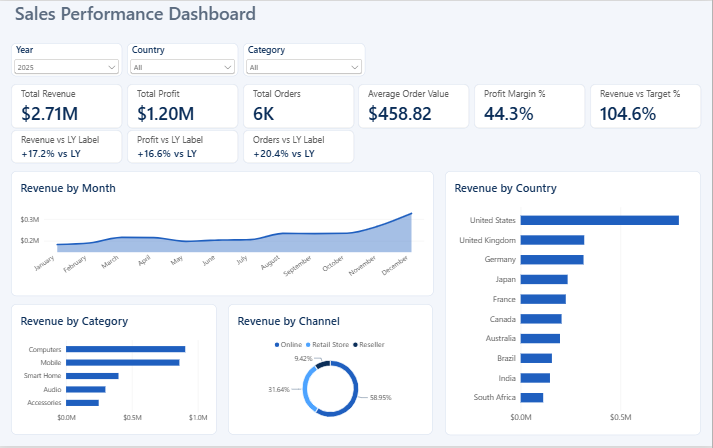

This screenshot's page, from the dashboard's own definition file:
{"tool":"powerbi","page":{"name":"Sales","canvas":[1280,800],"ordinal":0},"visuals":[{"type":"slicer","fields":{"Values":["Calendar.Year"]},"box":[20,75,200,60],"z":1001},{"type":"slicer","fields":{"Values":["Territories.Country"]},"box":[228,75,200,60],"z":1002},{"type":"slicer","fields":{"Values":["Products.Category"]},"box":[436,75,220,60],"z":1003},{"type":"cardVisual","fields":{"Data":["Sales.Total Revenue"]},"box":[20,150,200,80],"z":1004},{"type":"cardVisual","fields":{"Data":["Sales.Total Profit"]},"box":[228,150,200,80],"z":1005},{"type":"cardVisual","fields":{"Data":["Sales.Total Orders"]},"box":[436,150,200,80],"z":1006},{"type":"cardVisual","fields":{"Data":["Sales.Average Order Value"]},"box":[644,150,200,80],"z":1007},{"type":"cardVisual","fields":{"Data":["Sales.Profit Margin %"]},"box":[852,150,200,80],"z":1008},{"type":"cardVisual","fields":{"Data":["Targets.Revenue vs Target %"]},"box":[1060,150,200,80],"z":1009},{"type":"cardVisual","fields":{"Data":["Calendar.Revenue vs LY Label"]},"box":[20,232,200,60],"z":1010},{"type":"cardVisual","fields":{"Data":["Calendar.Profit vs LY Label"]},"box":[228,232,200,60],"z":1011},{"type":"cardVisual","fields":{"Data":["Calendar.Orders vs LY Label"]},"box":[436,232,200,60],"z":1012},{"type":"areaChart","title":"Revenue by Month","fields":{"Category":["Calendar.MonthName"],"Y":["Sales.Total Revenue"]},"box":[20,305,760,225],"z":1013},{"type":"clusteredBarChart","title":"Revenue by Country","fields":{"Category":["Territories.Country"],"Y":["Sales.Total Revenue"]},"box":[800,305,460,475],"z":1014},{"type":"clusteredBarChart","title":"Revenue by Category","fields":{"Category":["Products.Category"],"Y":["Sales.Total Revenue"]},"box":[20.4,545,370,235],"z":1015},{"type":"donutChart","title":"Revenue by Channel","fields":{"Category":["Sales.Channel"],"Y":["Sales.Total Revenue"]},"box":[410,545,368,235],"z":1016},{"type":"pageNavigator","box":[700,15,560,45],"z":1017},{"type":"actionButton","box":[660,75,140,60],"z":1018}]}

Visuals, with their boxes in screenshot pixels (x1, y1, x2, y2), scaled from the page's 1280x800 canvas onto the 713x448 screenshot:
slicer - Calendar.Year: rect(11, 42, 123, 76)
slicer - Territories.Country: rect(127, 42, 238, 76)
slicer - Products.Category: rect(243, 42, 365, 76)
cardVisual - Sales.Total Revenue: rect(11, 84, 123, 129)
cardVisual - Sales.Total Profit: rect(127, 84, 238, 129)
cardVisual - Sales.Total Orders: rect(243, 84, 354, 129)
cardVisual - Sales.Average Order Value: rect(359, 84, 470, 129)
cardVisual - Sales.Profit Margin %: rect(475, 84, 586, 129)
cardVisual - Targets.Revenue vs Target %: rect(590, 84, 702, 129)
cardVisual - Calendar.Revenue vs LY Label: rect(11, 130, 123, 164)
cardVisual - Calendar.Profit vs LY Label: rect(127, 130, 238, 164)
cardVisual - Calendar.Orders vs LY Label: rect(243, 130, 354, 164)
"Revenue by Month" areaChart: rect(11, 171, 434, 297)
"Revenue by Country" clusteredBarChart: rect(446, 171, 702, 437)
"Revenue by Category" clusteredBarChart: rect(11, 305, 217, 437)
"Revenue by Channel" donutChart: rect(228, 305, 433, 437)
pageNavigator: rect(390, 8, 702, 34)
actionButton: rect(368, 42, 446, 76)
